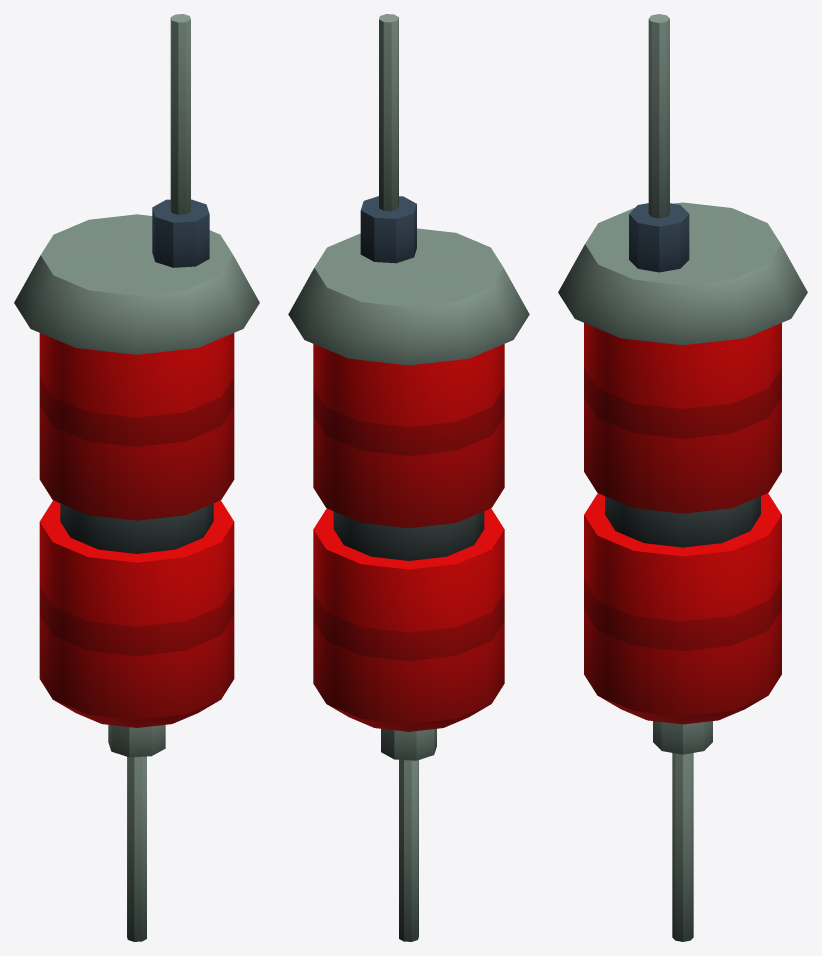
The model's file is tank_002.fbx.
3 renders of one model, left to right at view 1: azimuth 30°, elevation 25°; view 2: azimuth 150°, elevation 25°; view 3: azimuth 270°, elevation 25°, orthographic. The views are drawn at different scales.
Visible parts, largest first — view 1: tank.002; view 2: tank.002; view 3: tank.002.
Boxes of the visible parts, x1,y1,x2,y2 form: tank.002: (14, 14, 259, 941); tank.002: (288, 14, 529, 941); tank.002: (558, 14, 807, 941).
Bounding box in the file's own units: 152 × 625 × 152.
